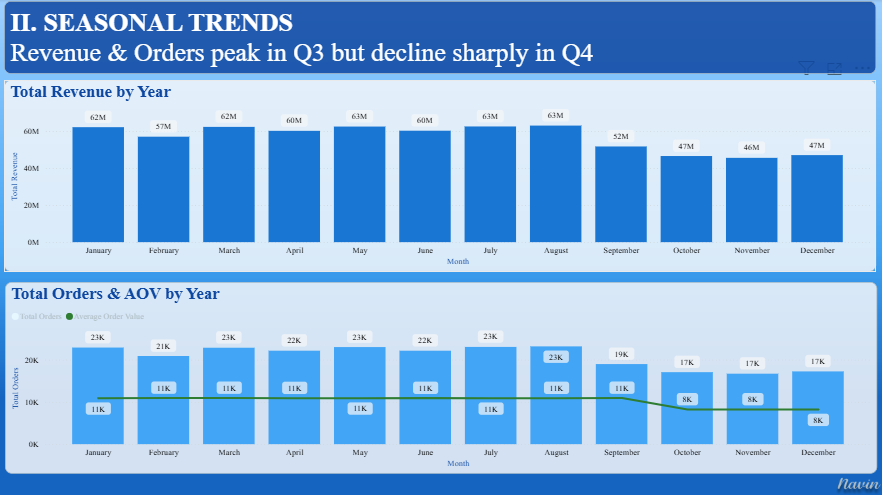

Layout of this report page (visuals, bound fields, positions):
{"tool":"powerbi","page":{"name":"II. SEASONAL TRENDS","canvas":[1280,720],"ordinal":1},"visuals":[{"type":"lineClusteredColumnComboChart","title":"Total Revenue by Year","fields":{"Category":["VI  Trends by Month.month.Variation.Date Hierarchy.Month"],"Y":["Sum(VI  Trends by Month.total_revenue)"]},"box":[10.1,116.6,1255.7,276.5],"z":0},{"type":"lineClusteredColumnComboChart","title":"Total Orders & AOV by Year","fields":{"Category":["VI  Trends by Month.month.Variation.Date Hierarchy.Month"],"Y":["Sum(VI  Trends by Month.total_orders)"],"Y2":["Sum(VI  Trends by Month.aov)"]},"box":[11.5,407.5,1255.7,276.5],"z":1000},{"type":"textbox","box":[10.1,2.9,1255.7,105.1],"z":2000}]}

Visuals, with their boxes in screenshot pixels (x1, y1, x2, y2), scaled from the page's 1280x720 canvas onto the 882x495 screenshot:
"Total Revenue by Year" lineClusteredColumnComboChart: <box>7,80,872,270</box>
"Total Orders & AOV by Year" lineClusteredColumnComboChart: <box>8,280,873,470</box>
textbox: <box>7,2,872,74</box>
